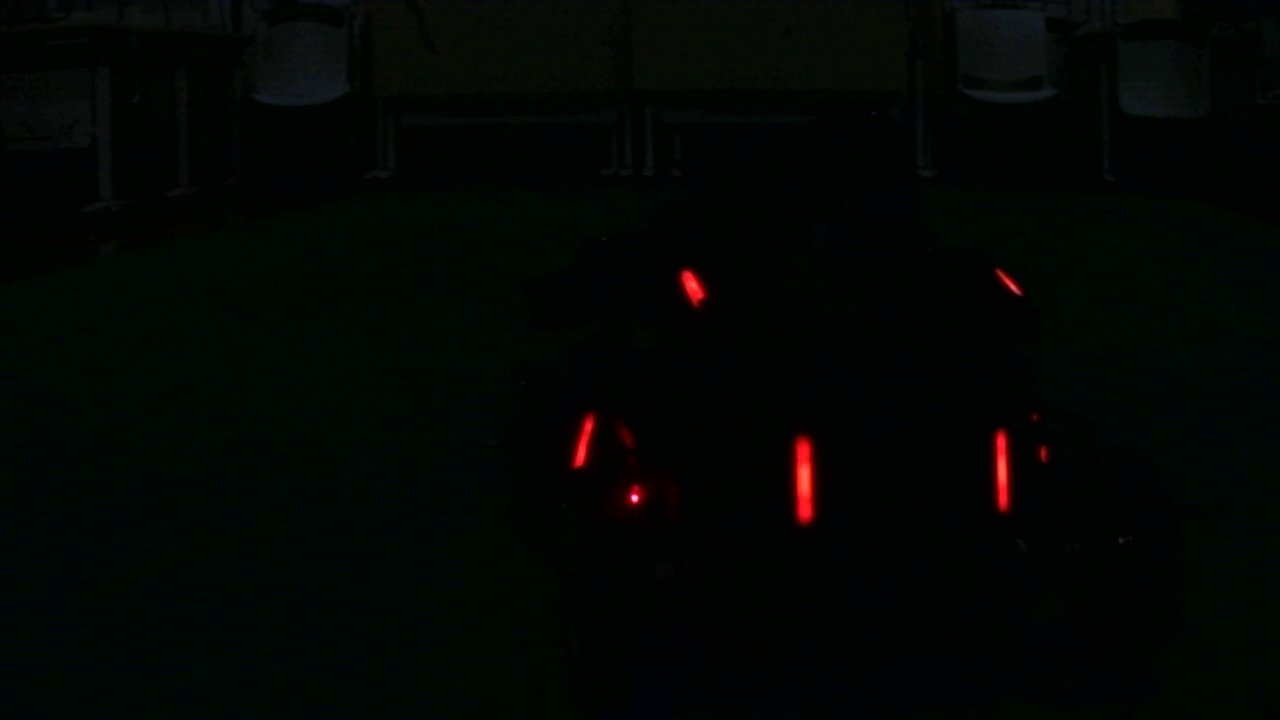lamp: (790, 431, 811, 525), (992, 431, 1012, 509), (568, 412, 593, 473)
notpair1: (570, 411, 812, 524)
pair1: (791, 430, 1013, 522)
